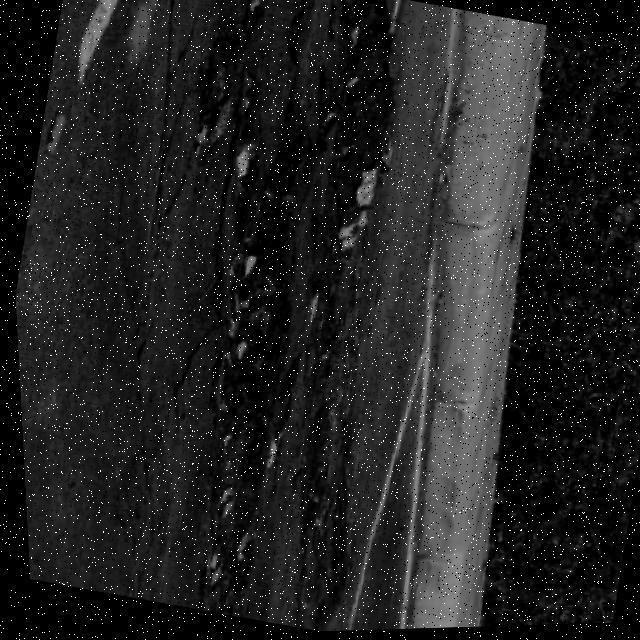pothole: (153, 122, 334, 620), (301, 0, 421, 258), (180, 0, 279, 164)
